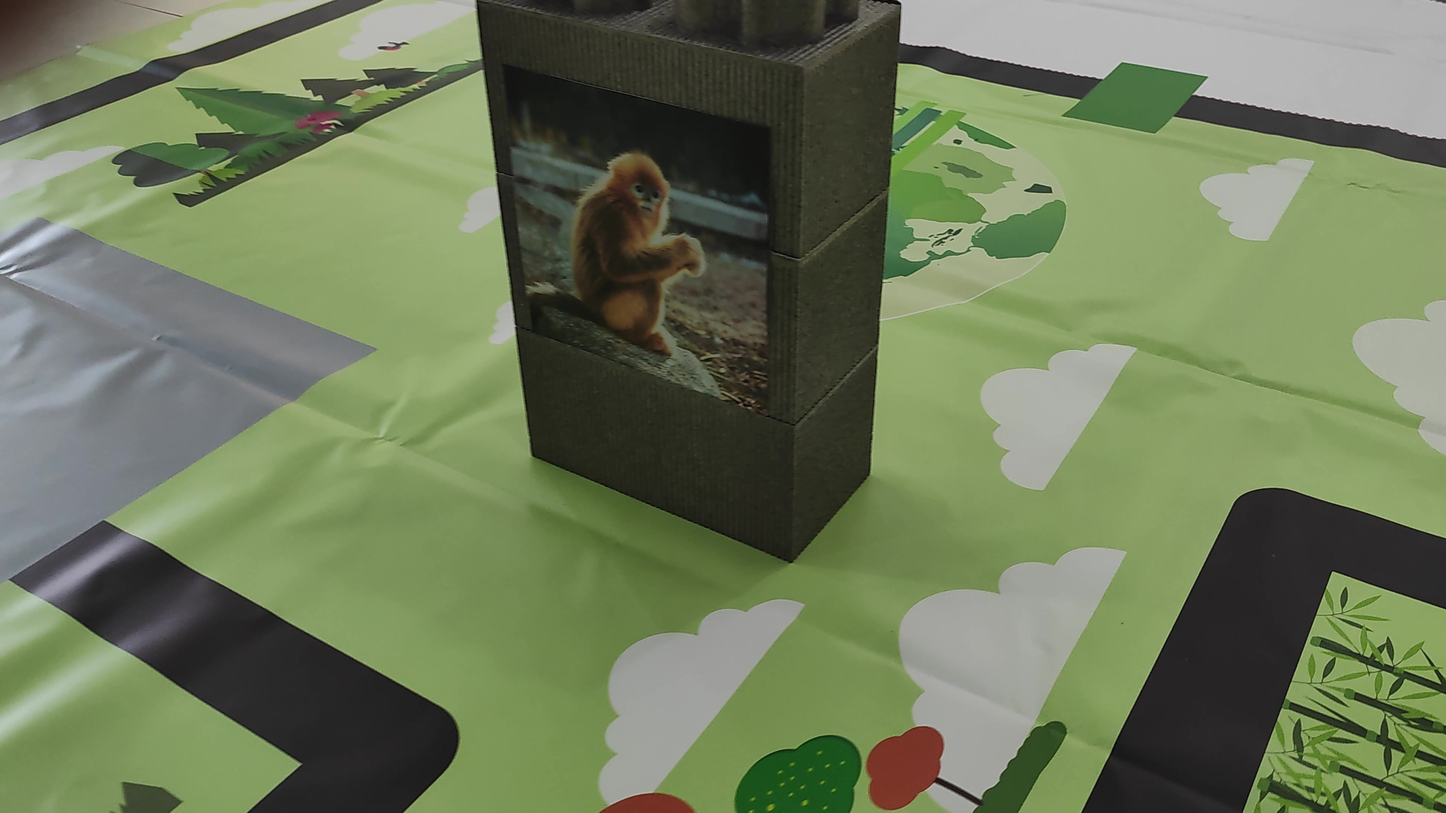monkey: (528, 108, 744, 354)
